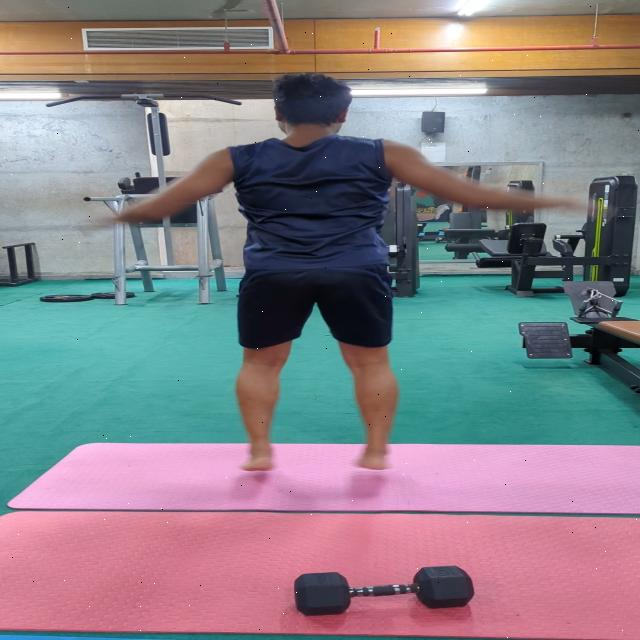Normal_JumpingJacks: (71, 64, 573, 487)
